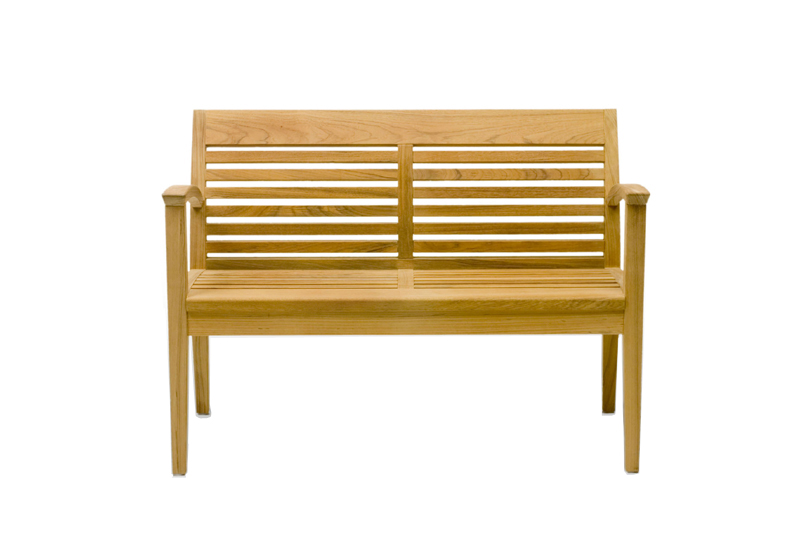chairs: (163, 105, 654, 480)
